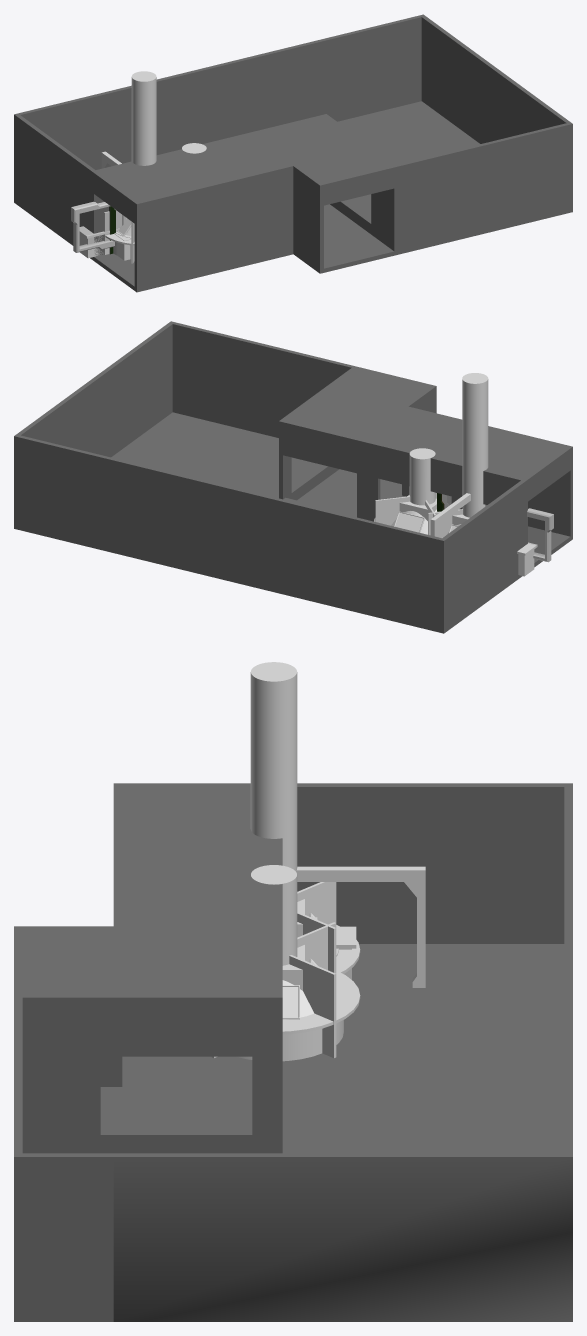
File: SciFiDoorBig.fbx
The picture shows the model from 3 angles, top to bottom: view 1: azimuth 30°, elevation 25°; view 2: azimuth 150°, elevation 25°; view 3: azimuth 270°, elevation 25°; orthographic projection. The views are drawn at different scales.
Parts seen in each view (by area): view 1: Box_Brush33_StaticMesh, RoundQuadDesk.001, Window, RoundQuadDesk, Desk; view 2: Box_Brush33_StaticMesh, RoundQuadDesk.002, RoundQuadDesk.001, RoundQuadDesk, Window, Desk; view 3: Box_Brush33_StaticMesh, RoundQuadDesk.002, RoundQuadDesk.001, RoundQuadDesk, ArchCenter, DuplicateArch.
Part boxes in pixels (x1=…): Box_Brush33_StaticMesh: x1=14, y1=14, x2=572, y2=292; RoundQuadDesk.001: x1=131, y1=71, x2=156, y2=165; Window: x1=71, y1=201, x2=114, y2=252; RoundQuadDesk: x1=105, y1=163, x2=154, y2=263; Desk: x1=79, y1=226, x2=119, y2=258; Box_Brush33_StaticMesh: x1=14, y1=321, x2=572, y2=633; RoundQuadDesk.002: x1=374, y1=448, x2=437, y2=534; RoundQuadDesk.001: x1=462, y1=373, x2=488, y2=471; RoundQuadDesk: x1=428, y1=468, x2=486, y2=537; Window: x1=485, y1=504, x2=553, y2=562; Desk: x1=517, y1=542, x2=537, y2=576; Box_Brush33_StaticMesh: x1=14, y1=783, x2=572, y2=1321; RoundQuadDesk.002: x1=212, y1=865, x2=360, y2=1061; RoundQuadDesk.001: x1=250, y1=662, x2=297, y2=838; RoundQuadDesk: x1=253, y1=829, x2=360, y2=974; ArchCenter: x1=296, y1=866, x2=403, y2=881; DuplicateArch: x1=404, y1=866, x2=425, y2=987.
Size of the model in its own units: 2151 by 841 by 1290.
